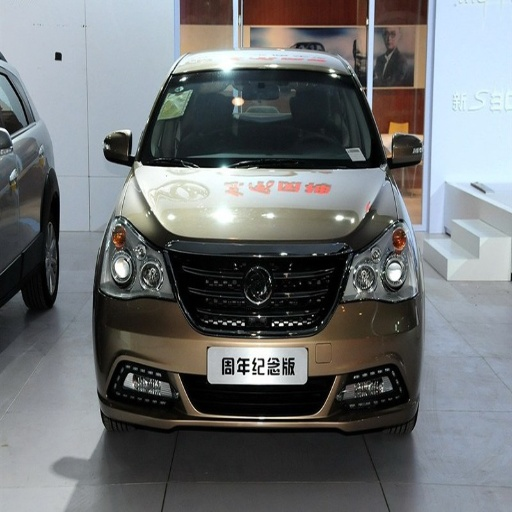front_bumper: (93, 237, 422, 433)
front_glass: (137, 68, 380, 165)
front_left_light: (343, 221, 418, 302)
front_right_light: (101, 216, 170, 298)
hood: (125, 164, 396, 249)
left_mirror: (386, 133, 422, 166)
